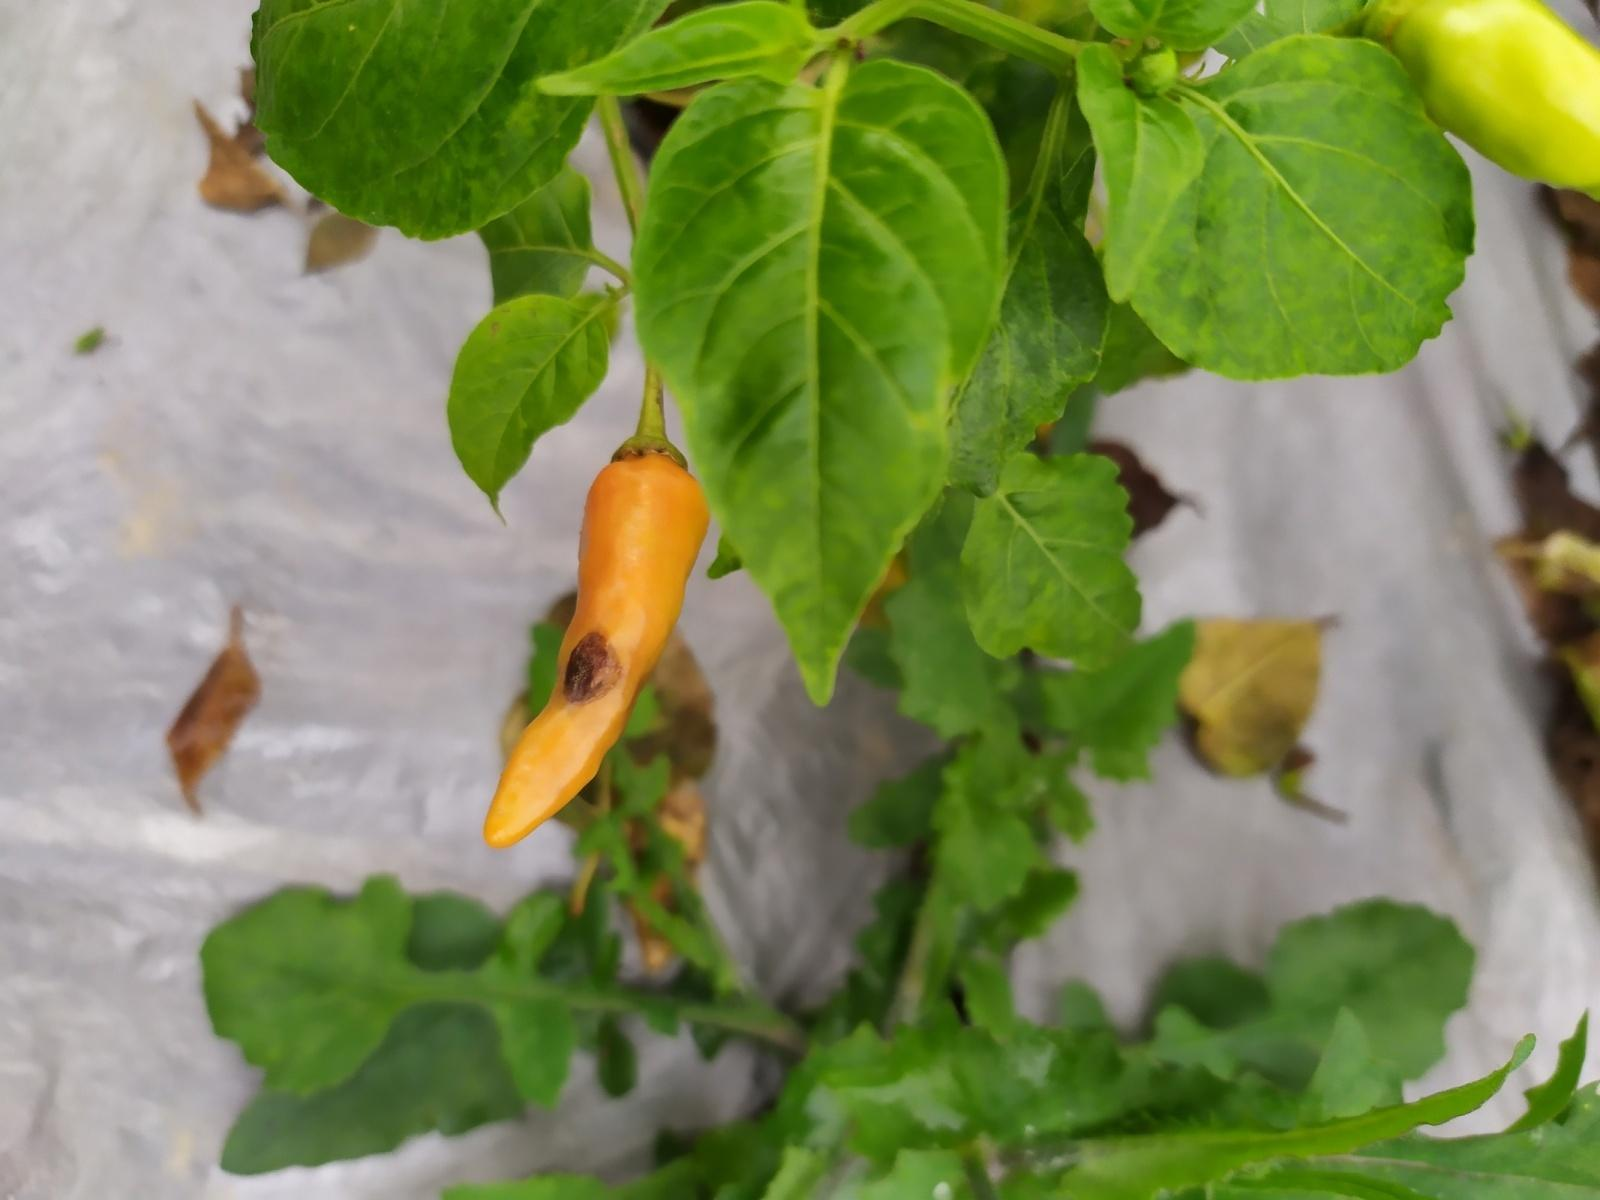antraknosa: (483, 451, 711, 848)
